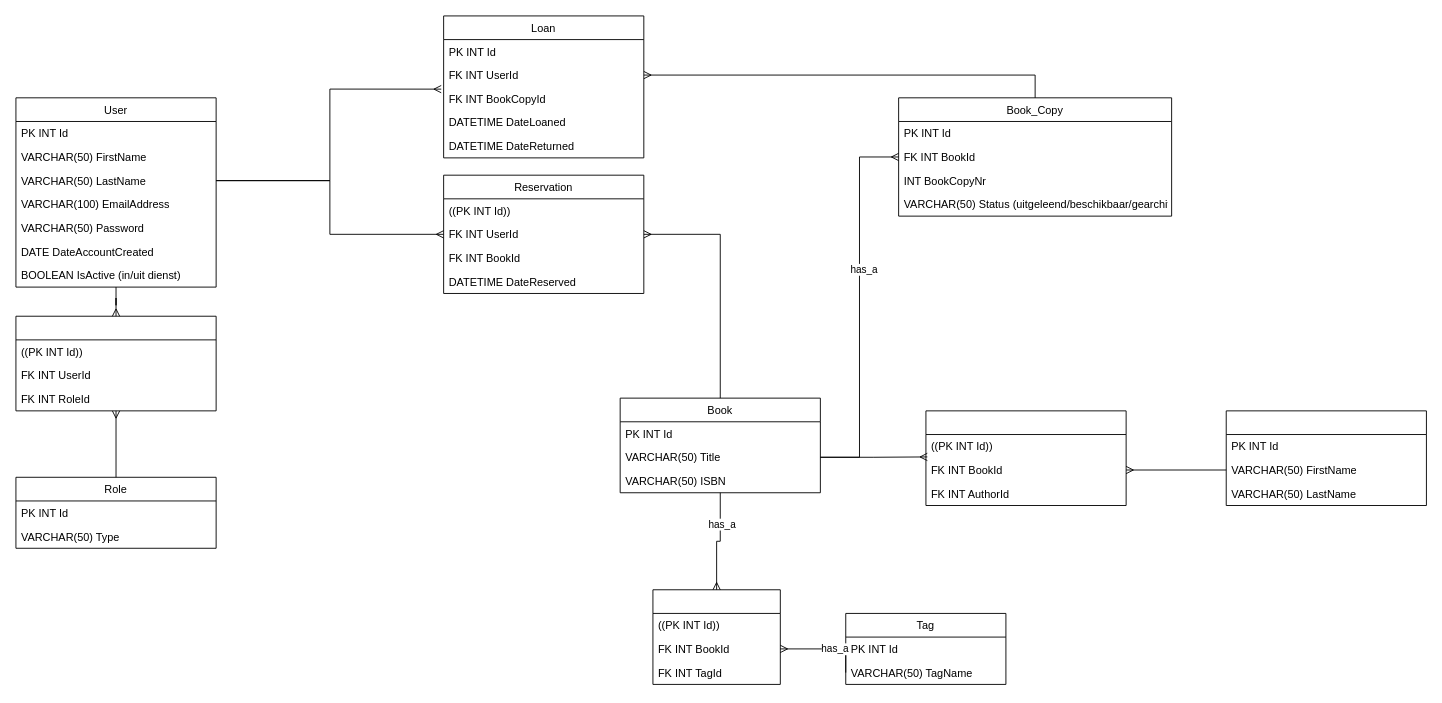
Some shapes in this 1442 by 703 pixel diagram are drawn without their labels. The box of each missing label's shape, as (x1, y1, x2, y2) in pixels:
Author: (1225, 410, 1426, 506)
Book_Author: (925, 410, 1126, 506)
Book_Tag: (652, 589, 780, 684)
User_Role: (15, 315, 216, 411)
